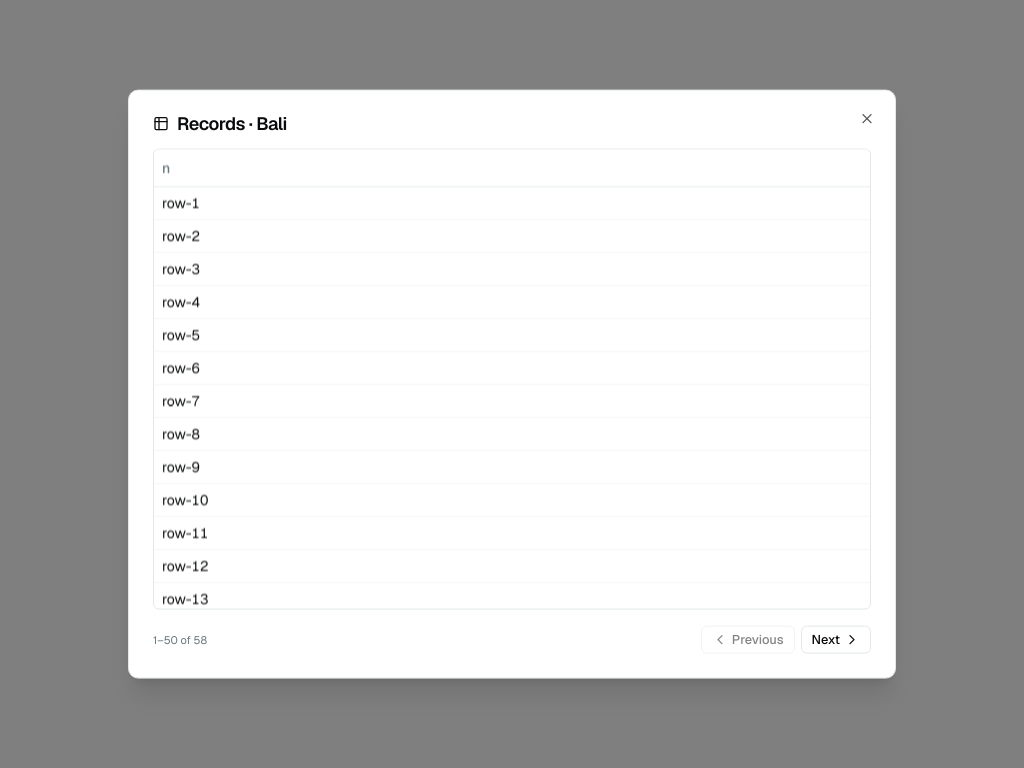
Test: RecordsDialog › shows the first page with its range and total, and pages forward and back
Expected: the text "1–50 of 58" is shown, left=153, top=632, right=207, bottom=646
Expected: the text "row-1" is shown, left=154, top=186, right=870, bottom=219
What coordinates should you click on to do the following:
click the button "Next"
I would click on:
 (836, 639)
Its box is left=800, top=625, right=871, bottom=653.
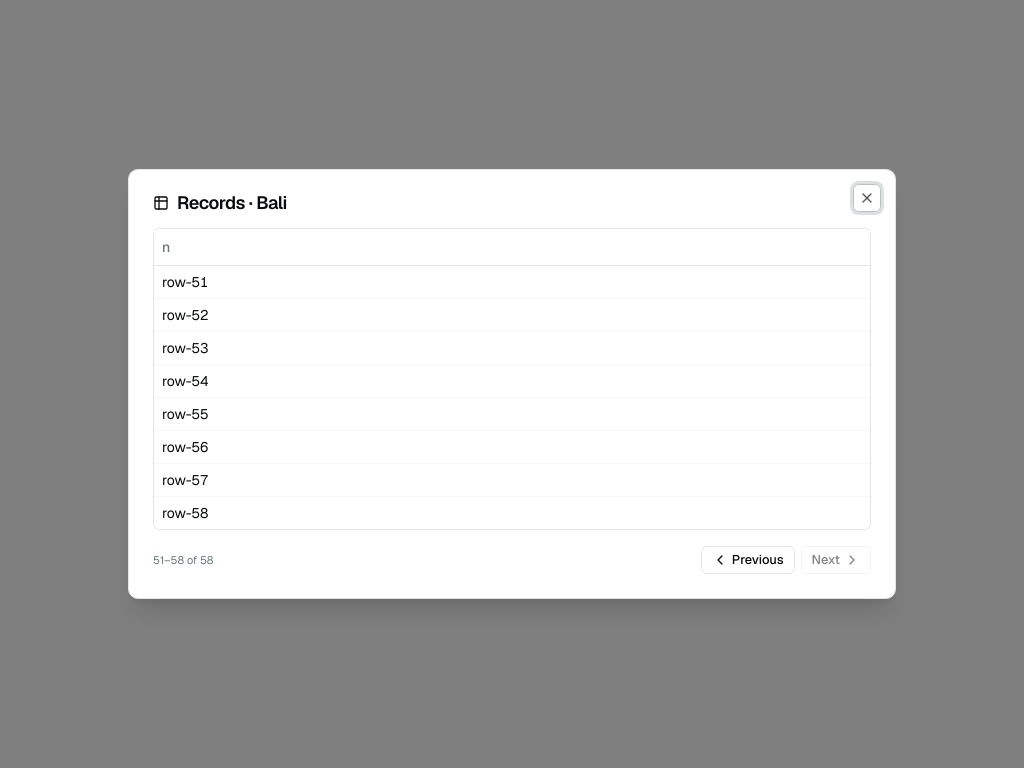
Expected: the text "51–58 of 58" is shown, left=153, top=553, right=214, bottom=567
Expected: the text "row-58" is shown, left=154, top=496, right=870, bottom=529
Expected: the button "Next" is disabled, left=800, top=546, right=871, bottom=574
What coordinates should you click on to do the following:
click the button "Previous"
I would click on:
 (748, 560)
Its box is left=701, top=546, right=795, bottom=574.
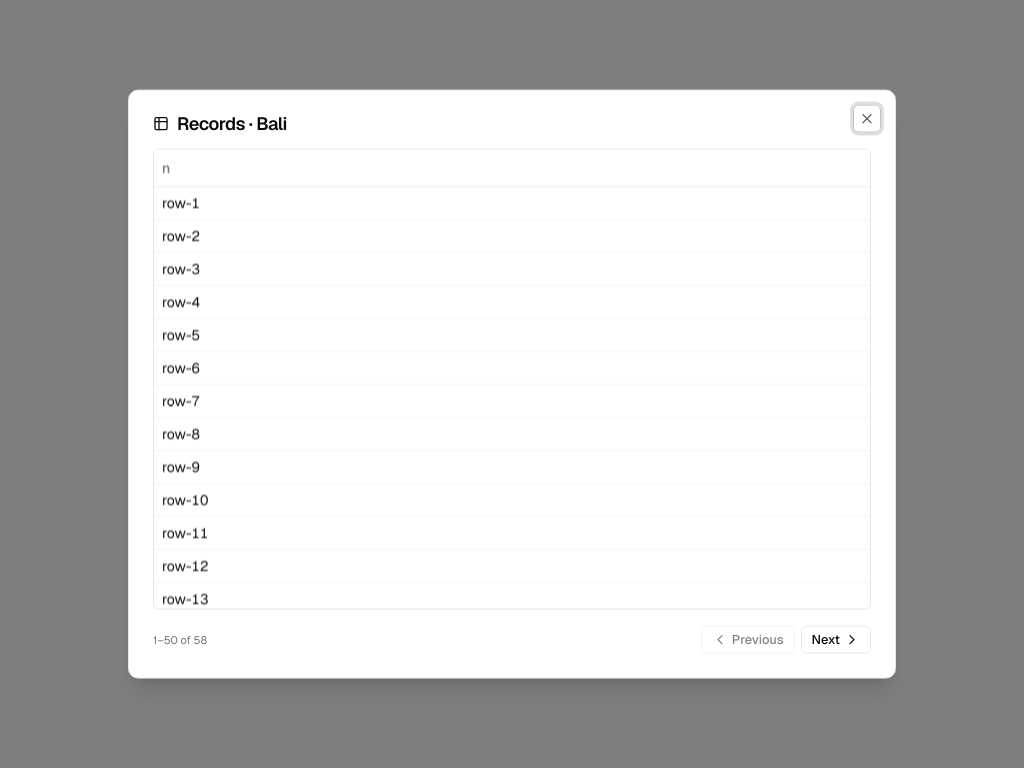
Expected: the text "1–50 of 58" is shown, left=153, top=632, right=207, bottom=646
